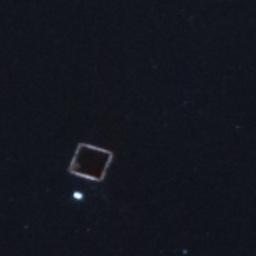square_solid: (63, 138, 119, 187)
